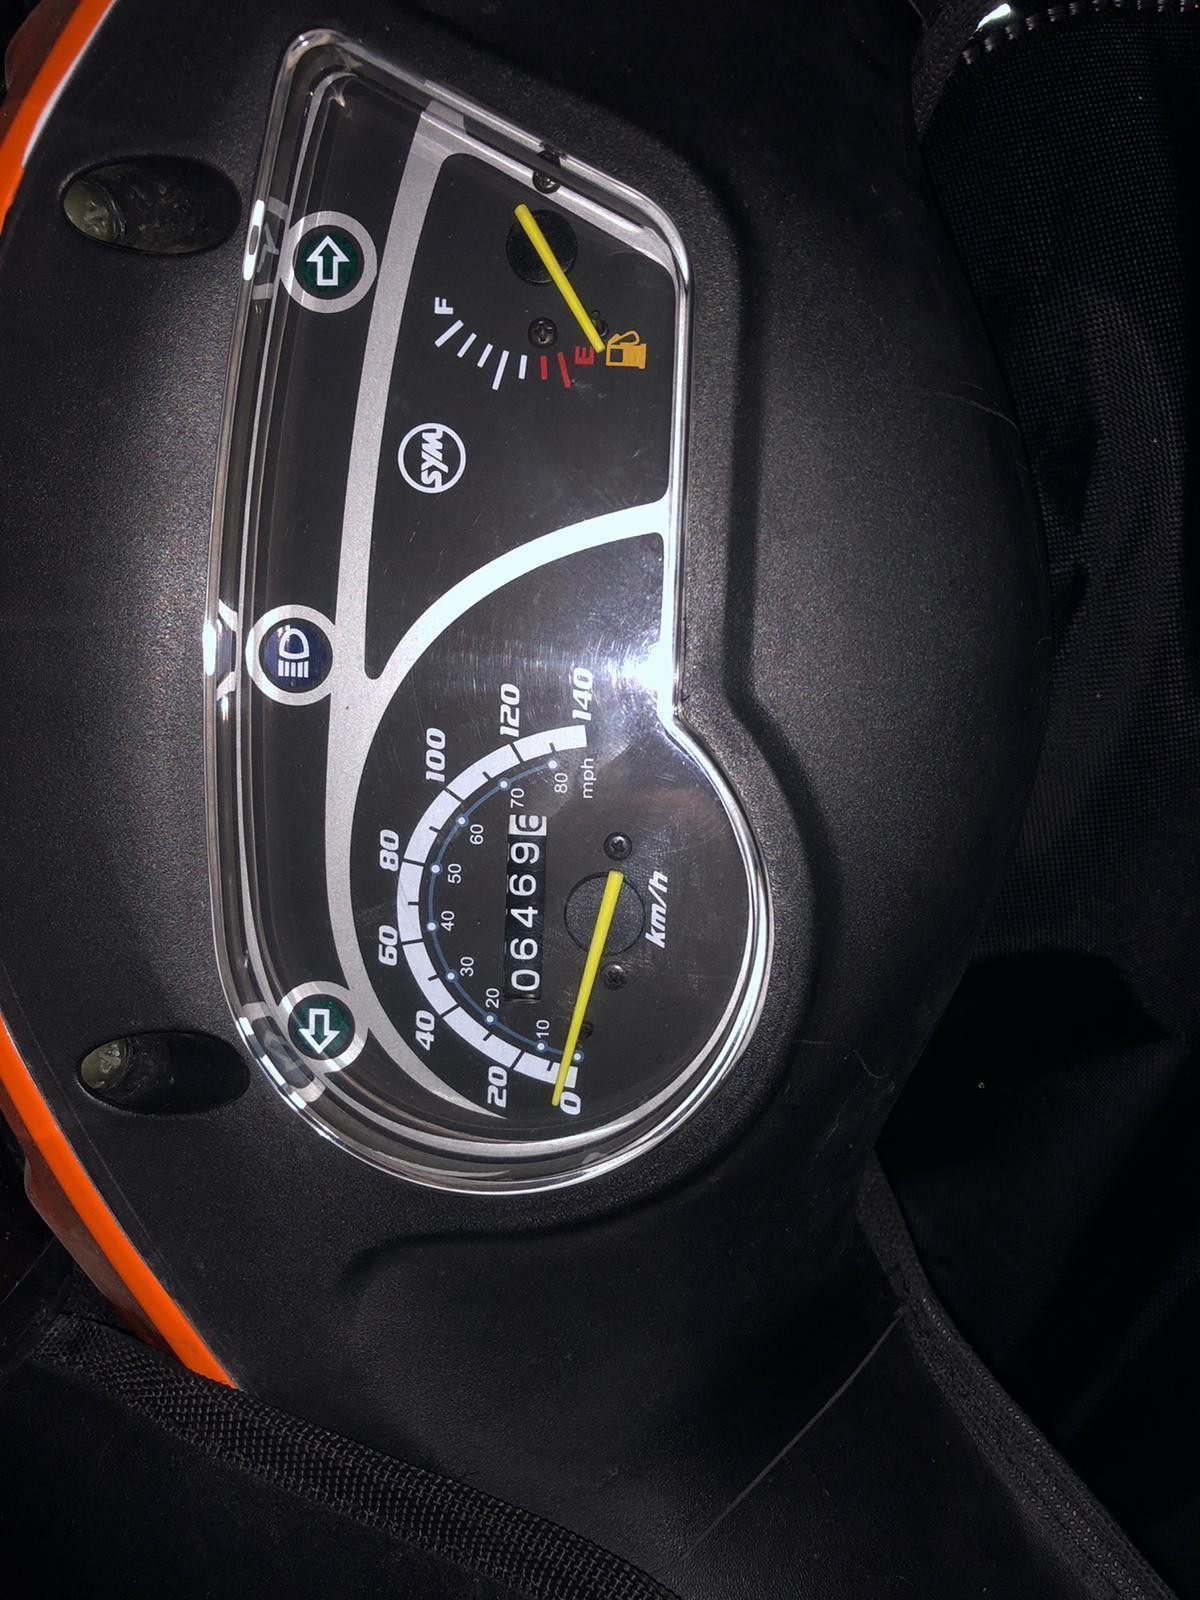0: (508, 966, 542, 991)
4: (507, 905, 541, 929)
6: (508, 935, 539, 961), (508, 872, 539, 897), (513, 811, 546, 831)
9: (505, 840, 545, 867)
odometer: (495, 808, 555, 1010)
